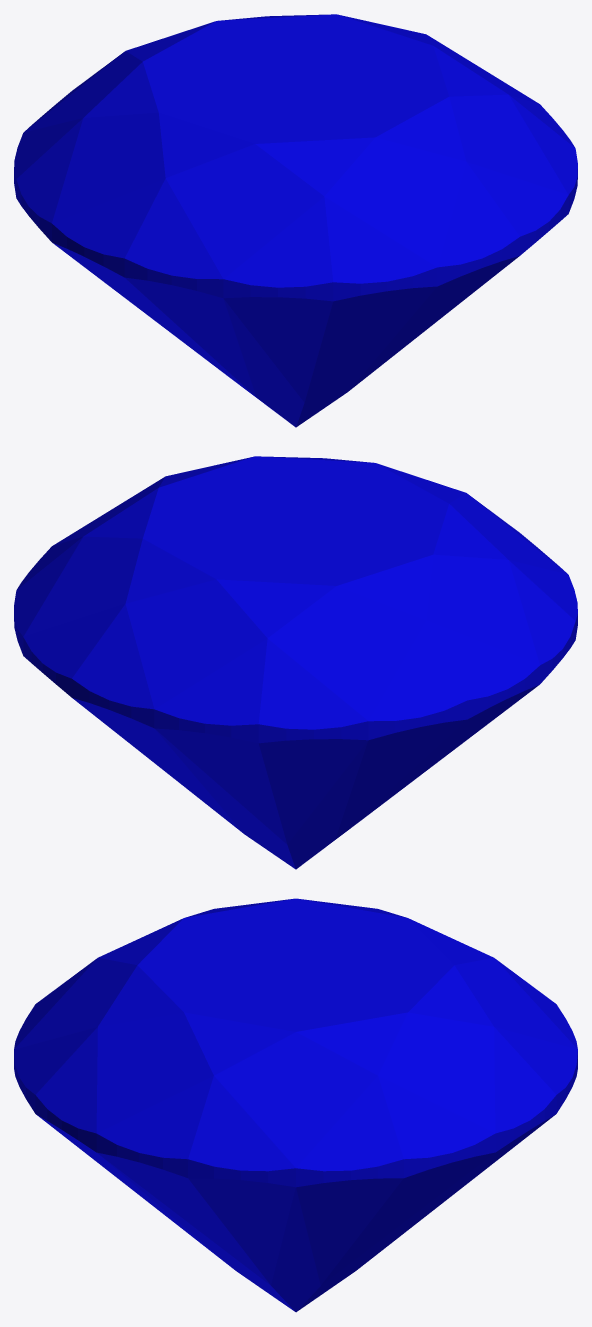
File: Head_Hidden Halo_Round_2.0ct_Diamond.glb
3 renders of one model, top to bottom at view 1: azimuth 30°, elevation 25°; view 2: azimuth 150°, elevation 25°; view 3: azimuth 270°, elevation 25°, orthographic.
Size of the model in its own units: 0.00801 by 0.00546 by 0.00804.
